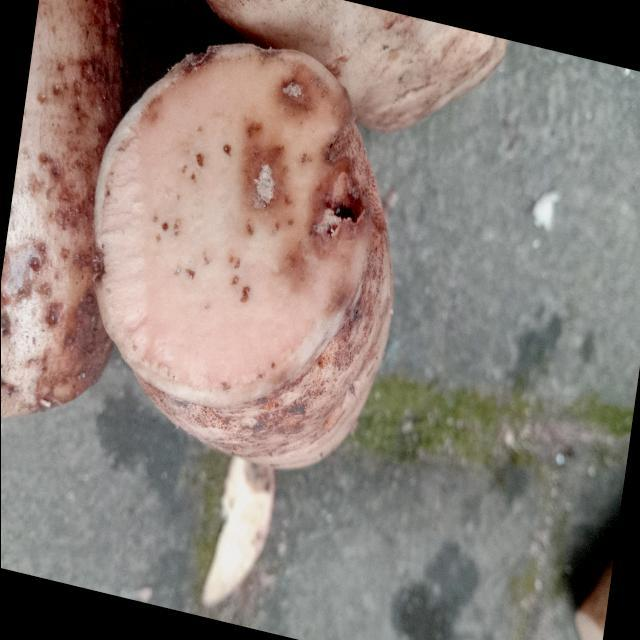Sick Sweet Potato_Tuber Rot: (94, 45, 379, 407)
